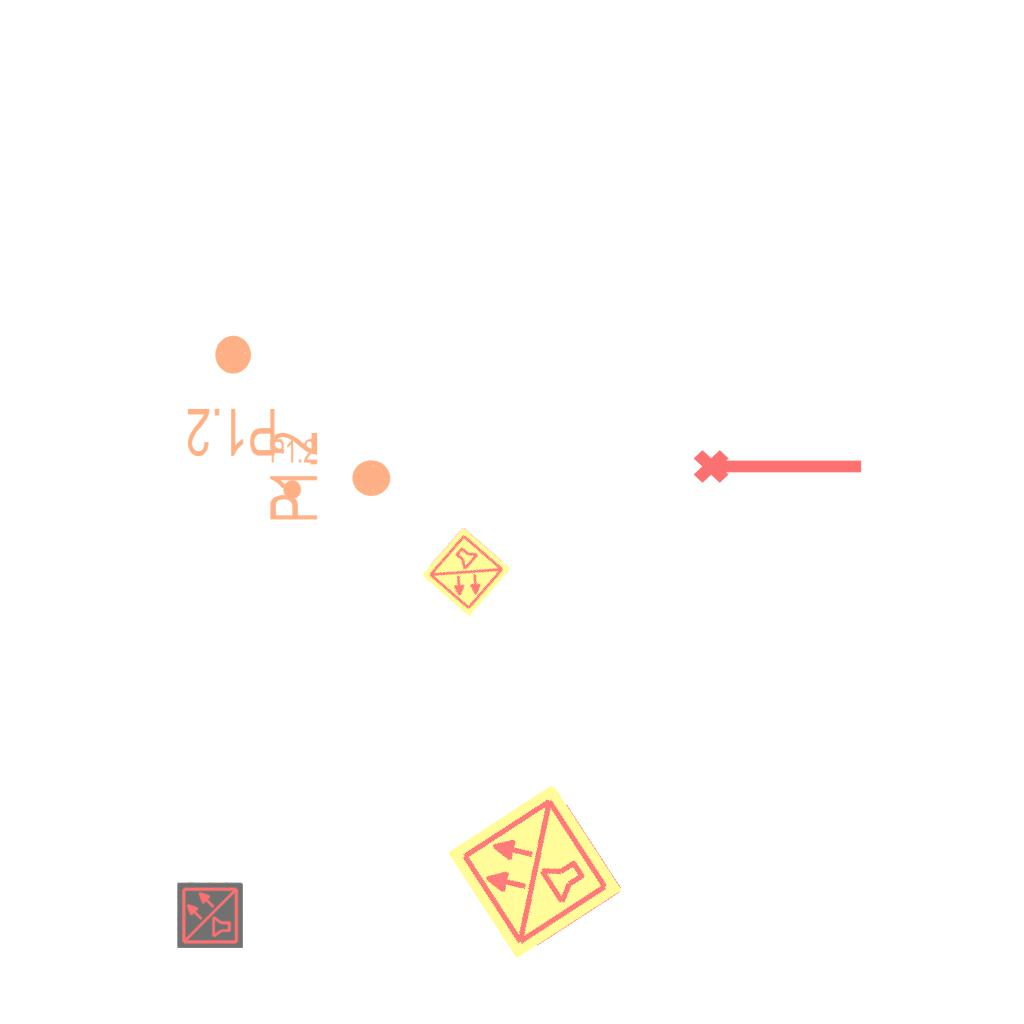ASR_Ansaugoeffnung: (691, 441, 867, 487)
Downlight_LED_Einbauleuchten_Flur: (266, 430, 394, 523), (185, 332, 278, 460), (269, 436, 317, 502)
OKW_Multisensormelder_(Kombination_optischer_Rauch-Kahlenmonoxid_Waerme-Melder): (443, 779, 627, 963), (419, 525, 513, 619), (177, 882, 243, 948)
